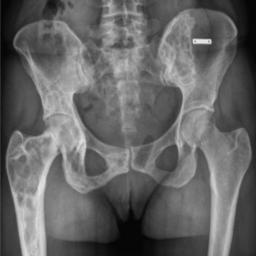cancer: (29, 64, 108, 195), (5, 131, 55, 256), (160, 13, 197, 104)
